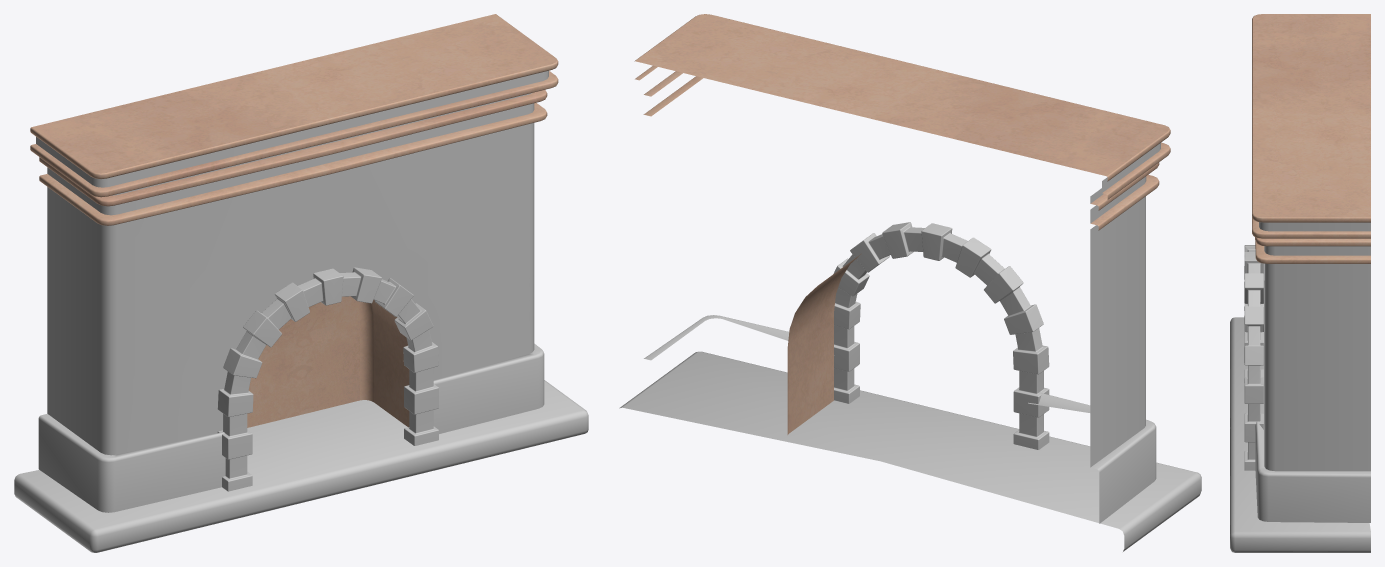
Rendered from SM_FirePlace.gltf.
3 renders of one model, left to right at view 1: azimuth 30°, elevation 25°; view 2: azimuth 150°, elevation 25°; view 3: azimuth 270°, elevation 25°, orthographic. The views are drawn at different scales.
Parts seen in each view (by area): view 1: SM_FirePlace; view 2: SM_FirePlace; view 3: SM_FirePlace.
Boxes of the visible parts, <box> form: SM_FirePlace: <box>14,14,588,552</box>; SM_FirePlace: <box>619,14,1201,551</box>; SM_FirePlace: <box>1230,14,1370,552</box>.
Bounding box in the file's own units: 3.02 × 2.12 × 0.8223.
